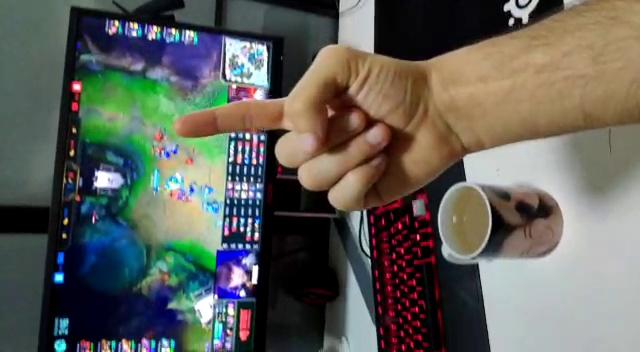One: (173, 98, 293, 140)
